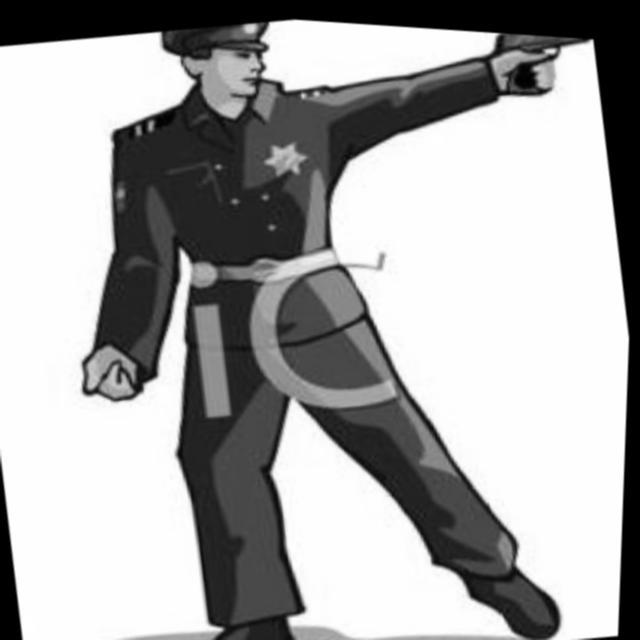weapon: (485, 26, 602, 104)
